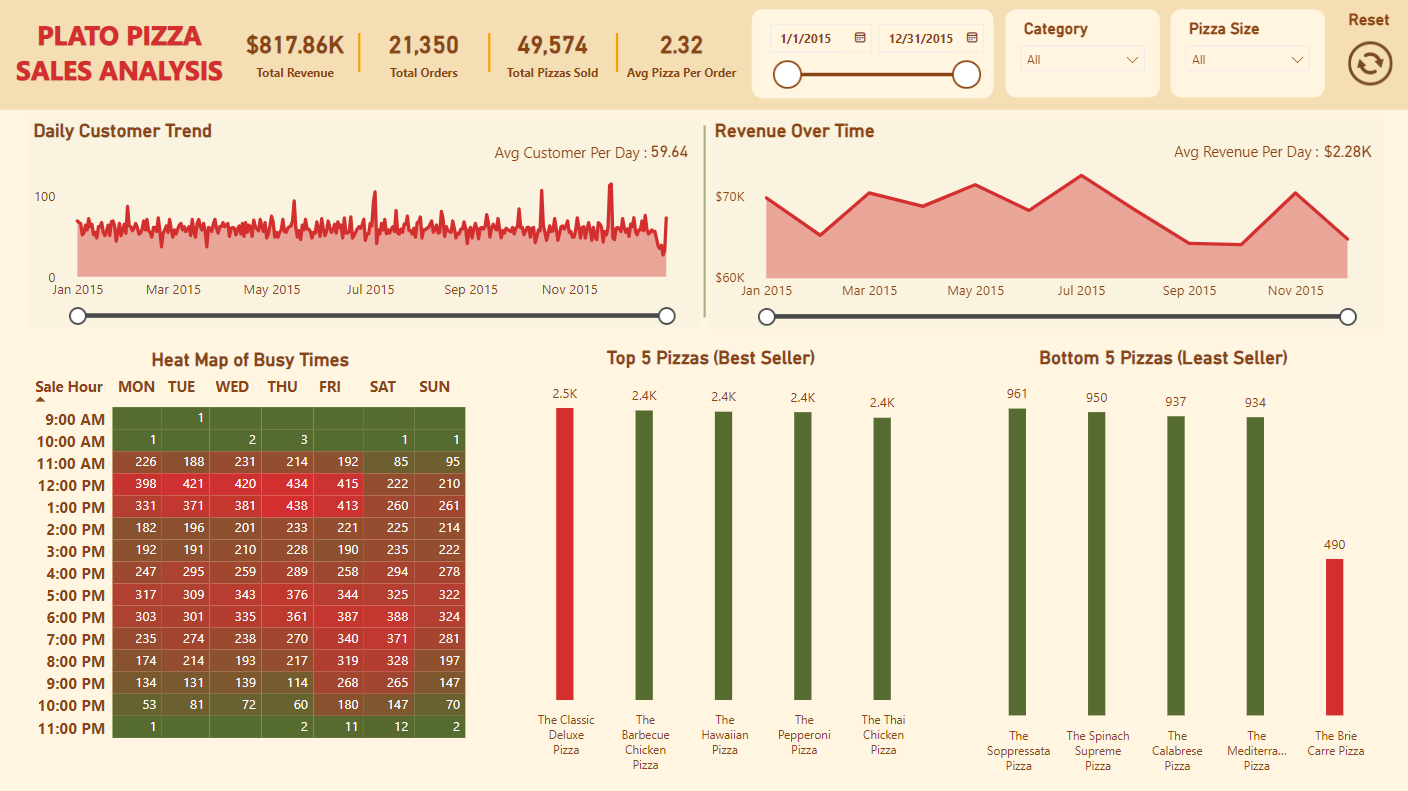

The dashboard page shown, as its layout file describes it:
{"tool":"powerbi","page":{"name":"plato_pizza_place_sales_analysis","canvas":[1280,720],"ordinal":0},"visuals":[{"type":"shape","box":[24.1,101.3,1231.8,609.3],"z":0},{"type":"shape","box":[0,0,1280,101.3],"z":1000},{"type":"card","fields":{"Values":["Measure.Total Revenue"]},"box":[211.4,10.9,115,75],"z":2000},{"type":"card","fields":{"Values":["Measure.Total Orders"]},"box":[328.2,10.9,115,75],"z":3000},{"type":"card","fields":{"Values":["Measure.Avg Pizza Per Order"]},"box":[561.8,10.9,115.5,75],"z":4000},{"type":"pivotTable","title":"Heat Map of Busy Times","fields":{"Rows":["orders.sale_hour"],"Columns":["orders.day_of_the_week"],"Values":["Measure.Total Customers"]},"box":[24,317,410,394],"z":5000},{"type":"slicer","fields":{"Values":["orders.date"]},"box":[684.1,9.7,219.6,80.8],"z":6000},{"type":"slicer","fields":{"Values":["pizza_types.category"]},"box":[913.3,9.7,139.9,79.6],"z":7000},{"type":"slicer","fields":{"Values":["pizzas.pizza_size"]},"box":[1062.9,9.7,140,79.6],"z":8000},{"type":"areaChart","title":"Daily Customer Trend","fields":{"Y":["Measure.Total Customers"],"Category":["orders.date.Variation.Date Hierarchy.Year","orders.date.Variation.Date Hierarchy.Quarter","orders.date.Variation.Date Hierarchy.Month","orders.date.Variation.Date Hierarchy.Day"]},"box":[27.1,110,610,189],"z":9000},{"type":"columnChart","title":"Top 5 Pizzas (Best Seller)","fields":{"Category":["pizza_types.name"],"Y":["Measure.Total Pizzas Sold"]},"box":[446.4,316.1,399.3,394.5],"z":10000},{"type":"columnChart","title":"Bottom 5 Pizzas (Least Seller)","fields":{"Category":["pizza_types.name"],"Y":["Measure.Total Pizzas Sold"]},"box":[856.6,316.1,399.3,394.5],"z":11000},{"type":"image","title":"Reset","box":[1219.7,10.9,49.5,78.4],"z":12000},{"type":"areaChart","title":"Revenue Over Time","fields":{"Y":["Measure.Total Revenue"],"Category":["orders.date.Variation.Date Hierarchy.Year","orders.date.Variation.Date Hierarchy.Quarter","orders.date.Variation.Date Hierarchy.Month","orders.date.Variation.Date Hierarchy.Day"]},"box":[645.3,110,610,189.4],"z":13000},{"type":"card","fields":{"Values":["Measure.Avg Customer Per Day"]},"box":[574.1,126.2,70,30],"z":14000},{"type":"shape","box":[444.3,123.1,150,31.2],"z":15000},{"type":"card","fields":{"Values":["Measure.Avg Revenue Per Day"]},"box":[1188.6,125.9,70,30],"z":16000},{"type":"shape","box":[1056.1,123.2,151.2,30],"z":17000},{"type":"shape","box":[634.6,115.8,12.1,174],"z":18000},{"type":"shape","box":[320.9,31.8,13.6,35.5],"z":19000},{"type":"shape","box":[438.2,31.8,13.6,35.5],"z":20000},{"type":"shape","box":[9.7,10.9,200,75],"z":21000},{"type":"card","fields":{"Values":["Measure.Total Pizzas Sold"]},"box":[445,10.9,115,75],"z":22000},{"type":"shape","box":[555.5,31.8,11.8,35.5],"z":23000}]}

Visuals, with their boxes in screenshot pixels (x1, y1, x2, y2), scaled from the page's 1280x720 canvas onto the 1408x791 screenshot:
shape: [27,111,1381,781]
shape: [0,0,1407,111]
card - Measure.Total Revenue: [233,12,359,94]
card - Measure.Total Orders: [361,12,488,94]
card - Measure.Avg Pizza Per Order: [618,12,745,94]
"Heat Map of Busy Times" pivotTable: [26,348,477,781]
slicer - orders.date: [753,11,994,99]
slicer - pizza_types.category: [1005,11,1159,98]
slicer - pizzas.pizza_size: [1169,11,1323,98]
"Daily Customer Trend" areaChart: [30,121,701,328]
"Top 5 Pizzas (Best Seller)" columnChart: [491,347,930,781]
"Bottom 5 Pizzas (Least Seller)" columnChart: [942,347,1381,781]
"Reset" image: [1342,12,1396,98]
"Revenue Over Time" areaChart: [710,121,1381,329]
card - Measure.Avg Customer Per Day: [632,139,709,172]
shape: [489,135,654,170]
card - Measure.Avg Revenue Per Day: [1307,138,1384,171]
shape: [1162,135,1328,168]
shape: [698,127,711,318]
shape: [353,35,368,74]
shape: [482,35,497,74]
shape: [11,12,231,94]
card - Measure.Total Pizzas Sold: [490,12,616,94]
shape: [611,35,624,74]
